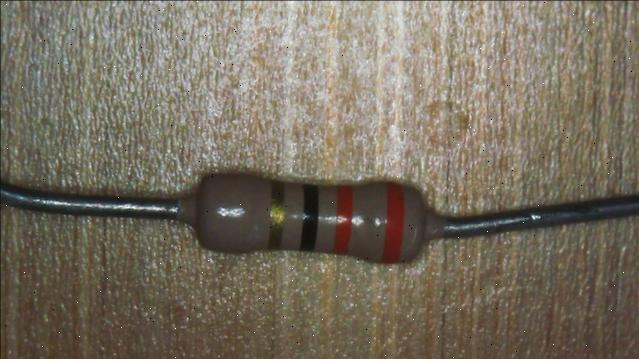black: (300, 184, 317, 250)
gold: (270, 182, 284, 248)
orange: (382, 183, 406, 263), (333, 186, 353, 254)
resistor: (184, 145, 442, 286)
